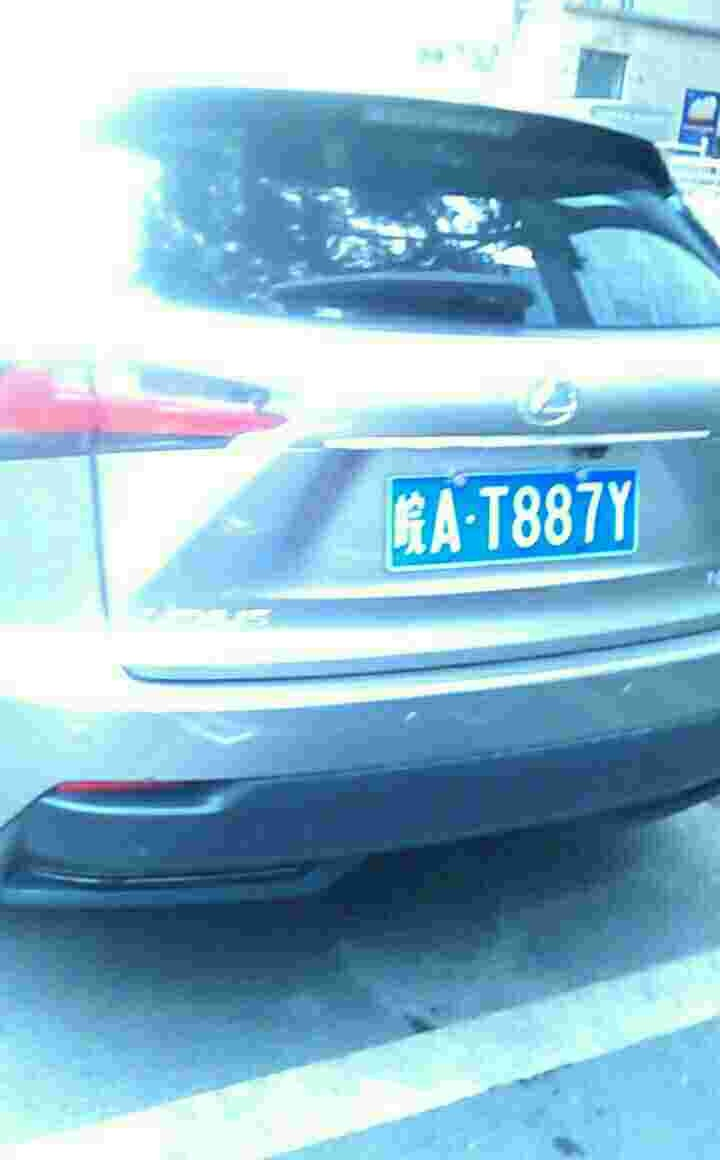license_plate: (380, 479, 634, 567)
